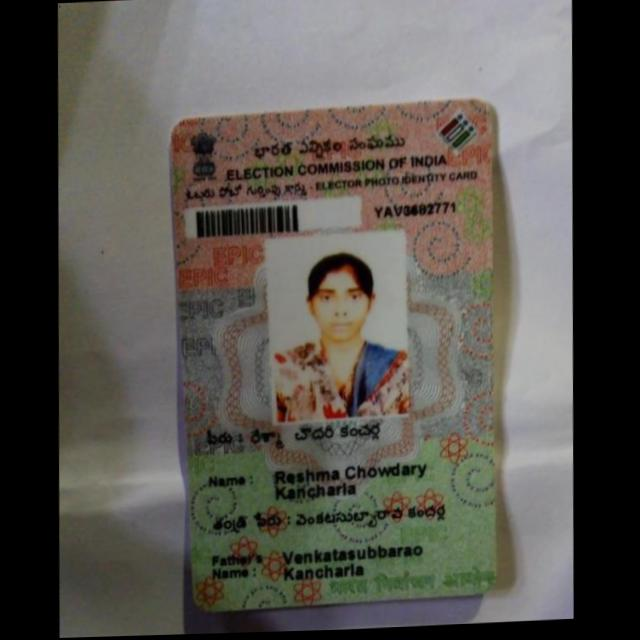voter_id: (153, 90, 520, 623)
